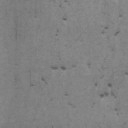oxide scale of temperature system: (14, 62, 92, 108), (103, 0, 123, 52), (94, 82, 120, 112), (14, 20, 18, 40), (34, 9, 38, 18), (62, 14, 68, 20)
